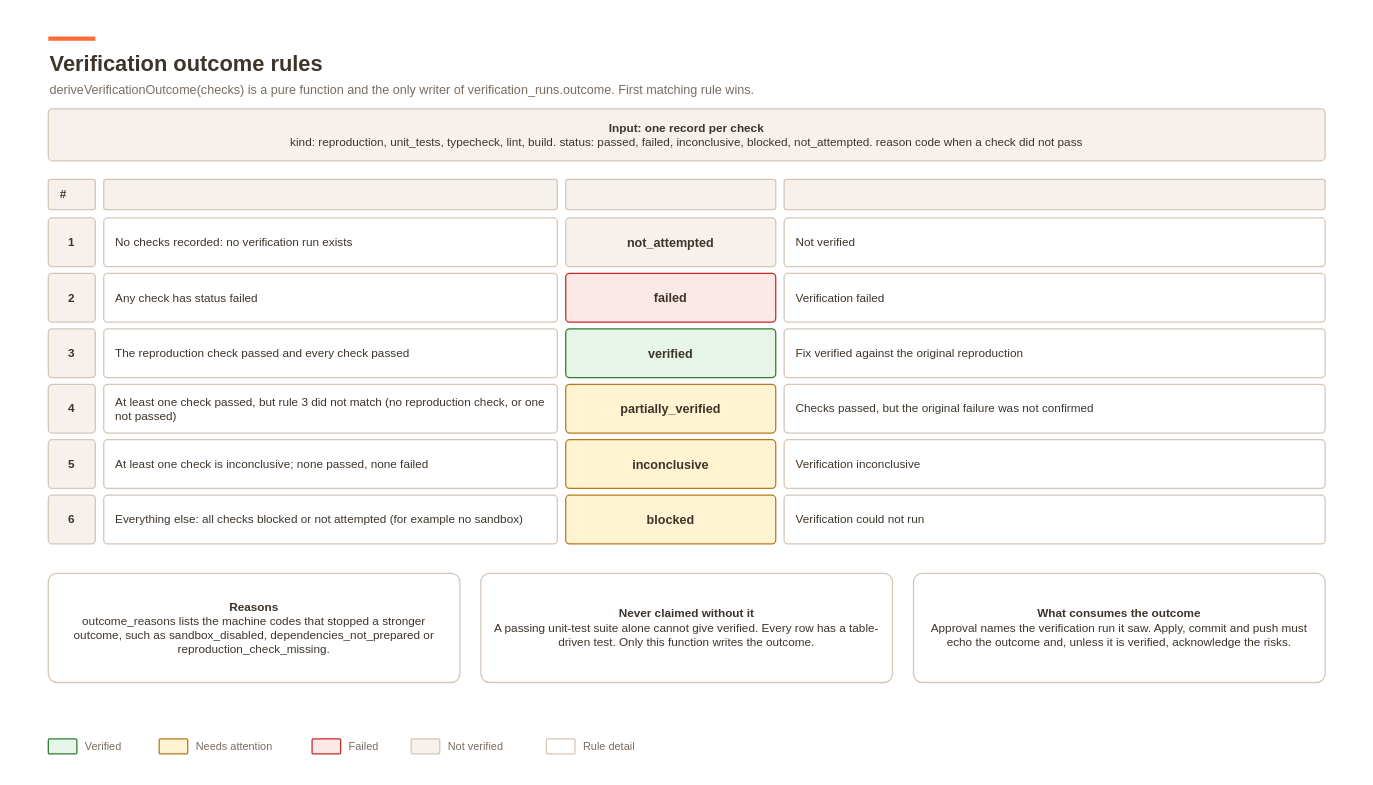
This 1373x785 diagram has some shape labels left out. The shapes that lost their labels are listed below. From the top down, each one's centre as x and y in pixels, then its label:
At (x=330, y=194): "Condition on the recorded checks".
At (x=670, y=194): "Outcome".
At (x=1054, y=194): "What the UI says".
